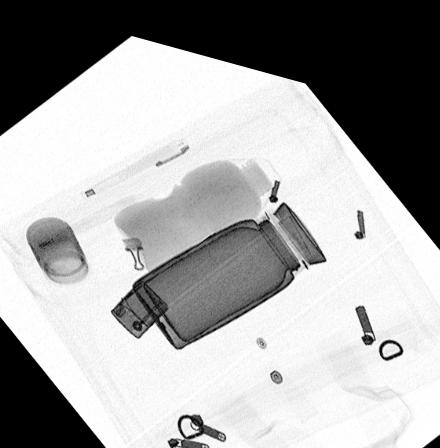Lighter: (108, 273, 167, 329)
